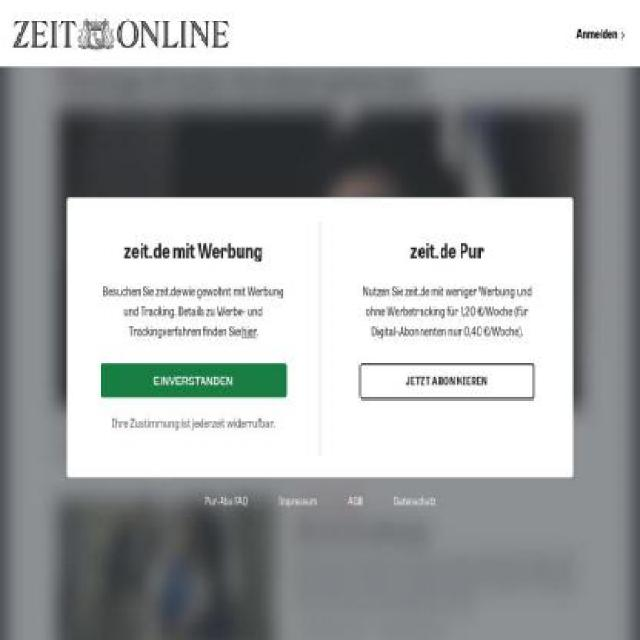button: (359, 363, 535, 400), (575, 25, 628, 44), (205, 494, 248, 509), (393, 494, 436, 509), (278, 494, 317, 509), (348, 494, 363, 509)
